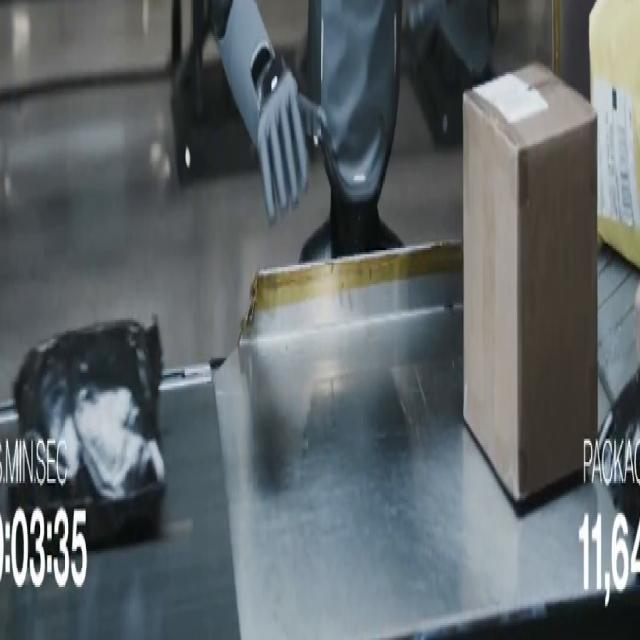package: (464, 64, 597, 502), (11, 320, 165, 548), (589, 0, 639, 267), (598, 371, 639, 529), (634, 287, 639, 362)
